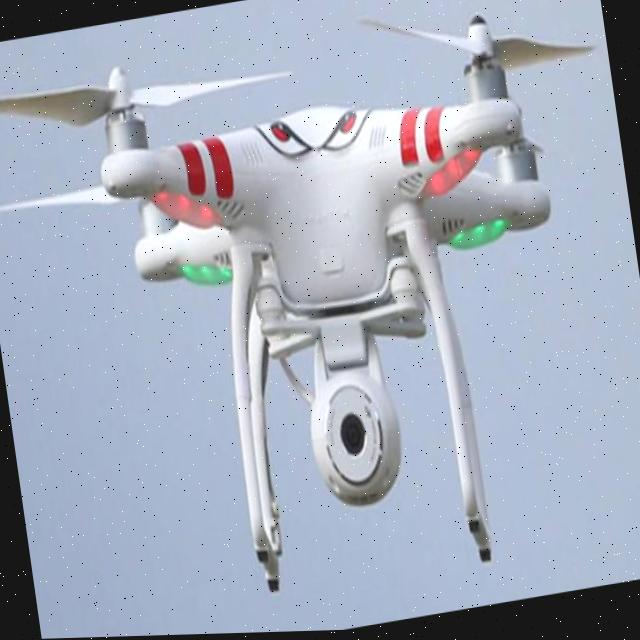drone: (0, 0, 623, 358)
